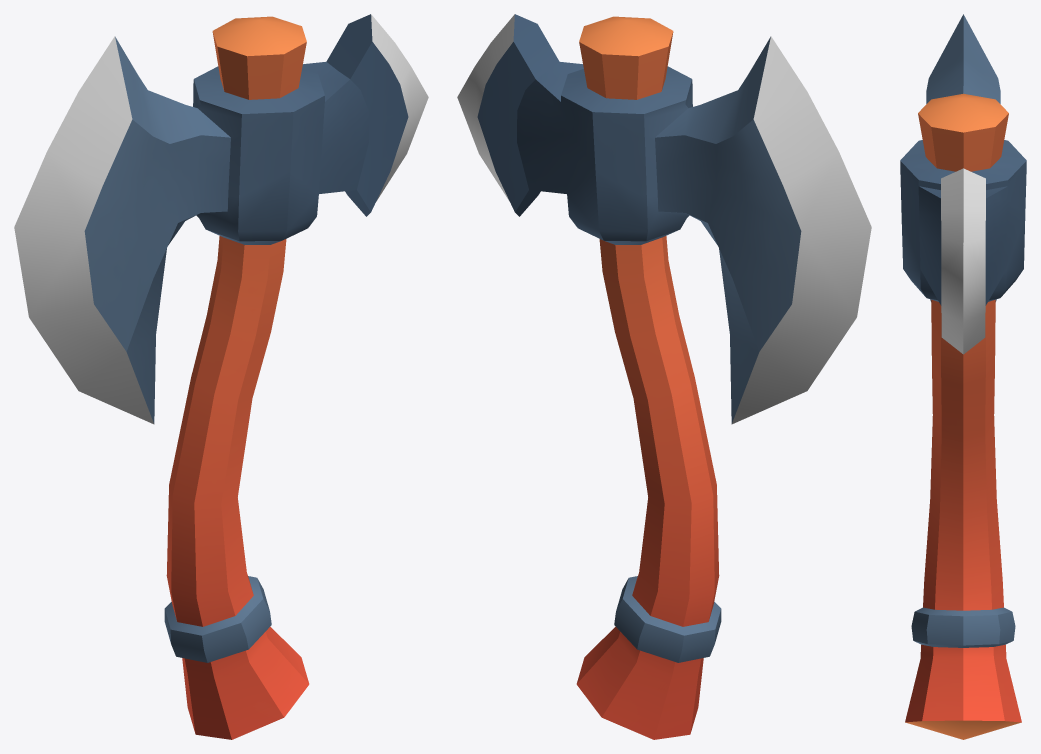
File: Axe.glb
The picture shows the model from 3 angles, left to right: view 1: azimuth 30°, elevation 25°; view 2: azimuth 150°, elevation 25°; view 3: azimuth 270°, elevation 25°; orthographic projection. The views are drawn at different scales.
Visible parts, largest first — view 1: Axe; view 2: Axe; view 3: Axe.
Boxes of the visible parts, x1,y1,x2,y2 form: Axe: (14, 14, 428, 739); Axe: (457, 14, 871, 739); Axe: (900, 14, 1026, 739).
Bounding box in the file's own units: 0.3124 × 0.5174 × 0.0886.
1 material, 1 textured.
